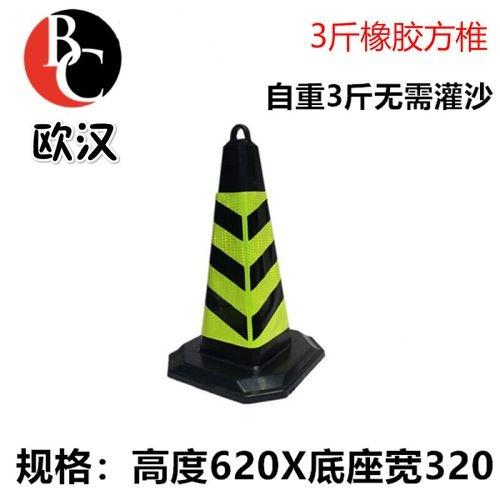cone_barrel: (177, 132, 320, 393)
